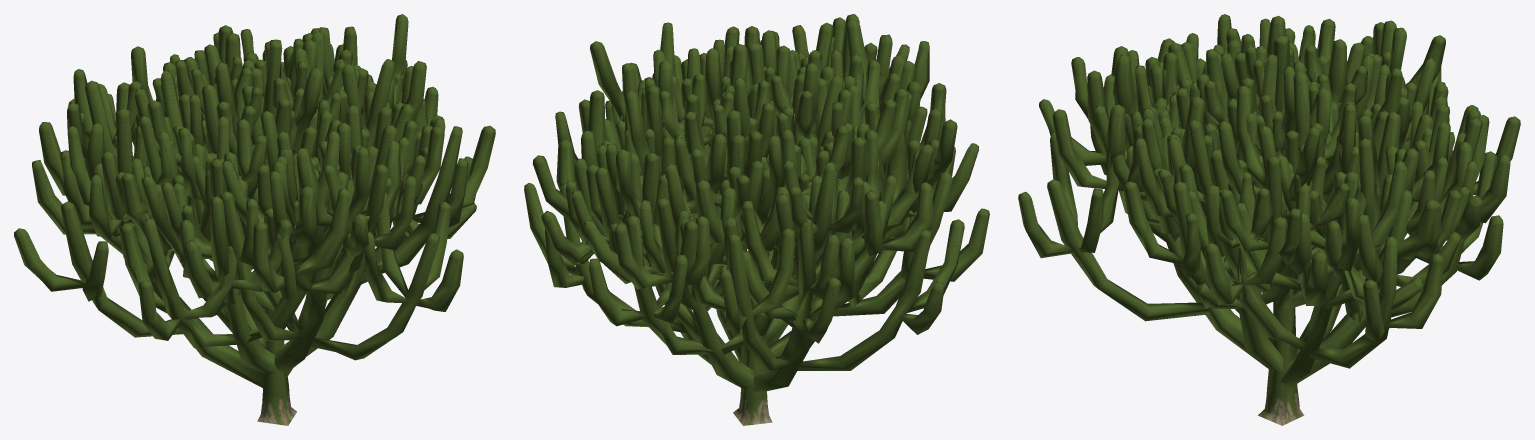
File: Euphorbia candelabrum HD_Dwarf mat 75_LOD4.fbx
3 renders of one model, left to right at view 1: azimuth 30°, elevation 25°; view 2: azimuth 150°, elevation 25°; view 3: azimuth 270°, elevation 25°, orthographic.
Parts seen in each view (by area): view 1: Euphorbia_candelabrum_HD; view 2: Euphorbia_candelabrum_HD; view 3: Euphorbia_candelabrum_HD.
Part boxes in pixels (<box>): Euphorbia_candelabrum_HD: <box>14,14,495,425</box>; Euphorbia_candelabrum_HD: <box>524,14,989,425</box>; Euphorbia_candelabrum_HD: <box>1018,14,1520,425</box>.
Size of the model in its own units: 3.11 by 2.72 by 3.26.
4 materials, 4 textured.
